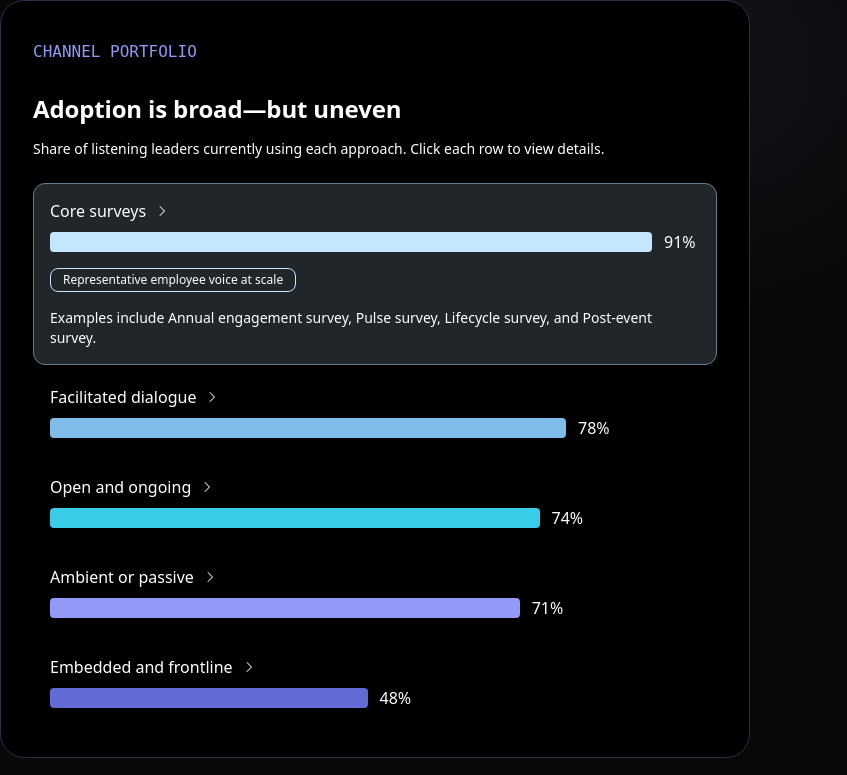
Test: ChannelPortfolio › reveals details within the selected channel row
expect the number of icons with class "glint-channel-portfolio__chevron" is 5: met, box [154,203,170,219]; [204,389,220,405]; [199,479,215,495]; [202,569,218,585]; [241,659,257,675]
expect the element named "Core surveys details" is shown: met, box [50,268,700,348]
Hover over the button with aria-label "facilitated dialogue, 78% adoption": (123, 397) [50,386,700,438]
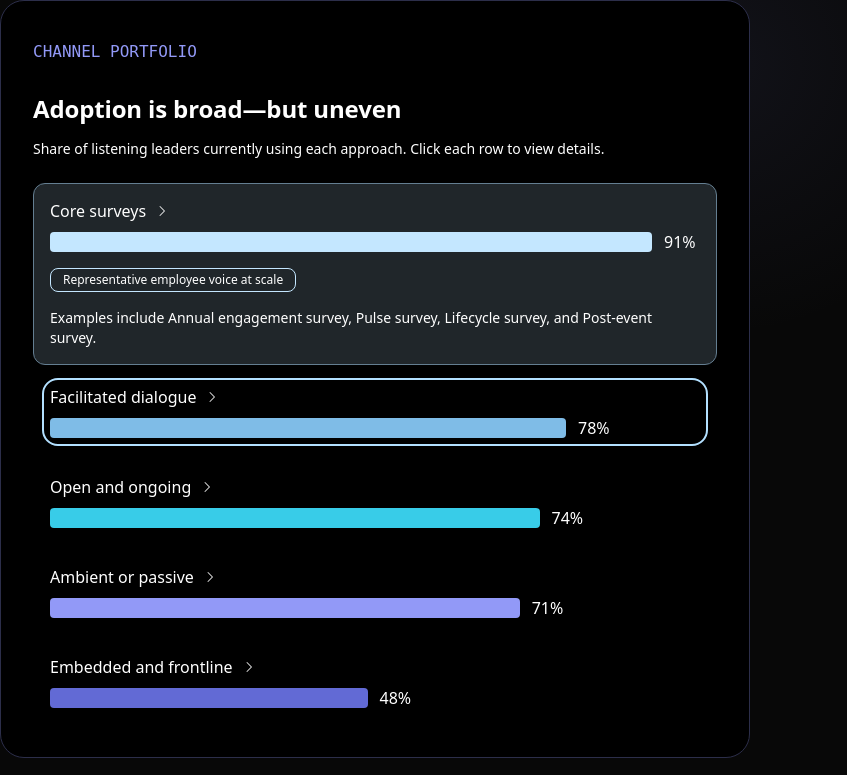
Click the button with aria-label "facilitated dialogue, 78% adoption": (123, 397) [50,386,700,438]
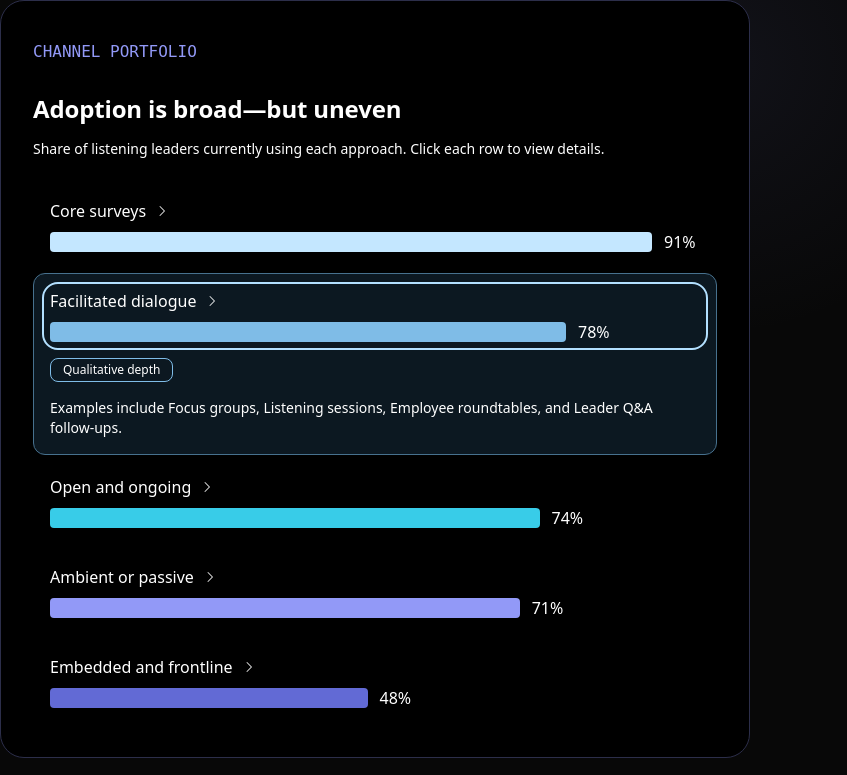
expect the button with aria-label "facilitated dialogue, 78% adoption" is expanded: met, box [50,290,700,342]
expect the button with aria-label "core surveys, 91% adoption" is collapsed: met, box [50,200,700,252]
expect the element named "Facilitated dialogue details" is shown: met, box [50,358,700,438]
